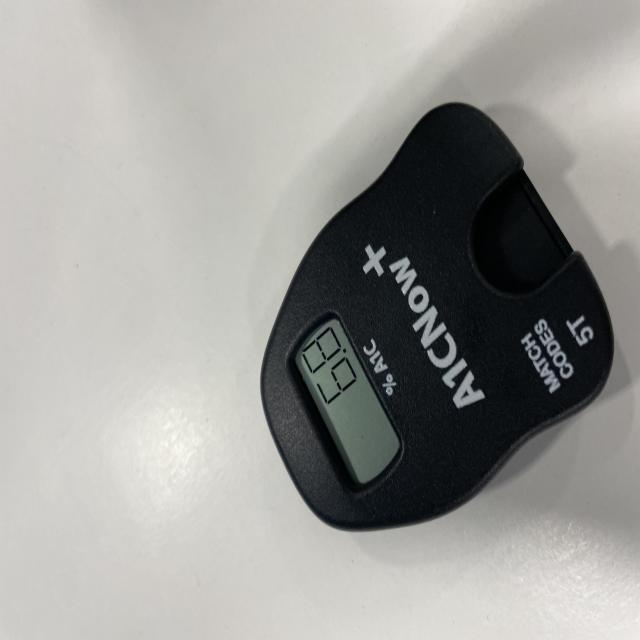hba1c: (259, 102, 616, 535)
